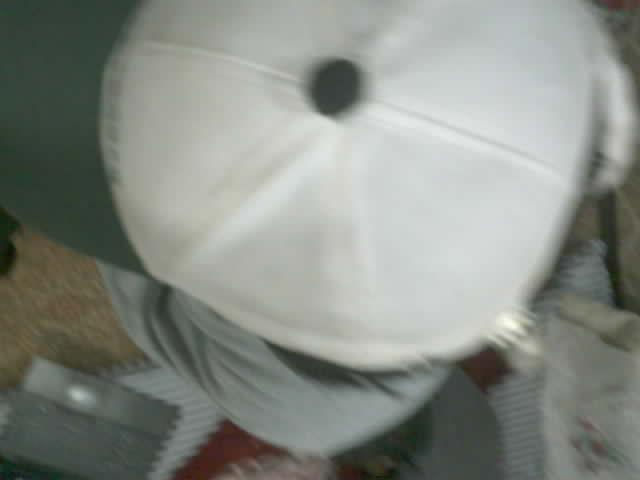cap: (99, 0, 637, 373)
